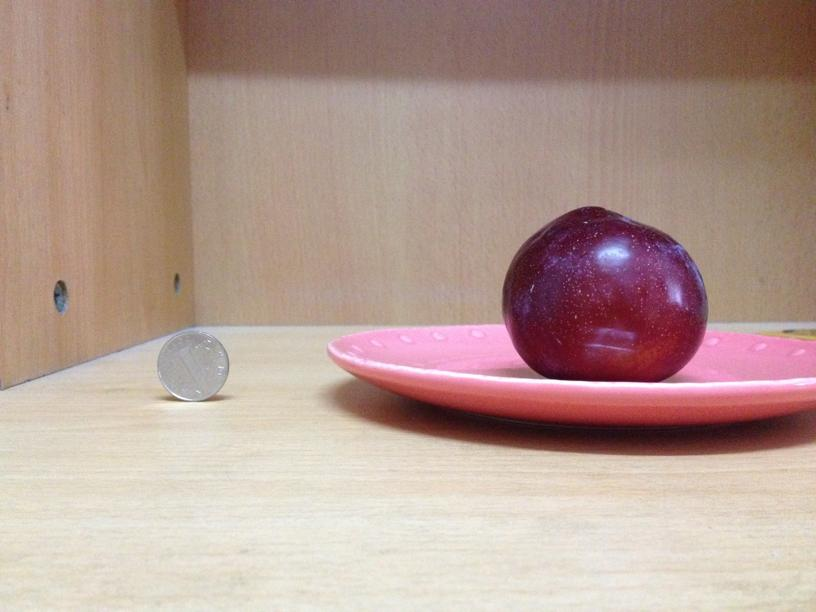coin: (153, 332, 227, 400)
plum: (501, 207, 708, 379)
